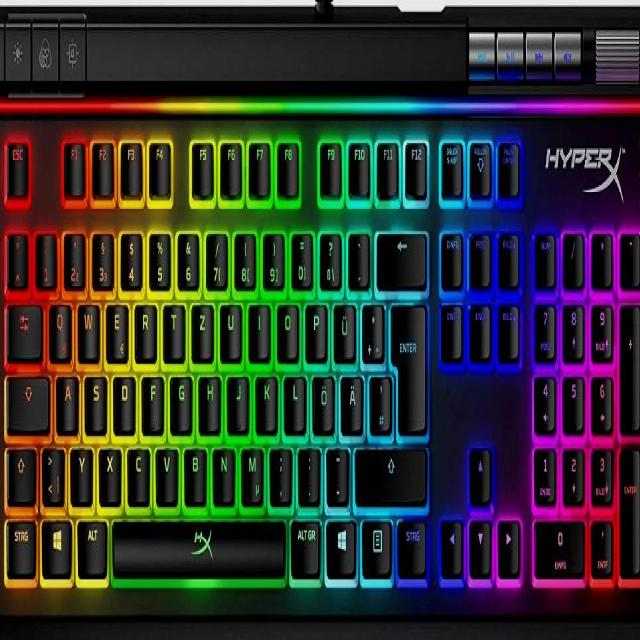0: (288, 226, 313, 288)
1: (33, 226, 55, 283)
2: (61, 226, 85, 285)
3: (90, 226, 112, 285)
4: (119, 226, 142, 285)
5: (147, 226, 170, 286)
6: (175, 226, 199, 286)
7: (203, 226, 227, 286)
8: (231, 226, 256, 288)
9: (261, 226, 284, 286)
a: (54, 367, 77, 428)
accent: (346, 226, 369, 285)
ae: (338, 369, 362, 429)
alt-left: (75, 512, 106, 573)
altgr-right: (288, 514, 319, 574)
b: (182, 440, 206, 499)
c: (125, 440, 149, 499)
caret: (6, 226, 27, 281)
comma: (267, 439, 290, 502)
d: (110, 367, 134, 428)
del: (375, 226, 426, 283)
e: (104, 295, 128, 357)
enter: (387, 293, 425, 428)
f: (140, 369, 163, 428)
g: (168, 369, 192, 428)
h: (197, 369, 219, 428)
hash: (367, 369, 390, 429)
i: (247, 297, 269, 356)
j: (225, 367, 248, 428)
k: (253, 367, 276, 430)
keyboard: (0, 79, 640, 628)
l: (282, 369, 305, 428)
less: (39, 440, 63, 500)
m: (239, 440, 263, 500)
minus: (324, 441, 348, 502)
n: (211, 440, 234, 500)
o: (275, 296, 298, 357)
oe: (310, 369, 334, 429)
p: (303, 296, 326, 357)
plus: (360, 296, 382, 359)
point: (296, 441, 319, 500)
q: (47, 297, 70, 356)
r: (132, 297, 156, 356)
s: (83, 367, 106, 428)
shift-left: (5, 440, 35, 499)
shift-lock: (5, 369, 49, 428)
shift-right: (353, 441, 426, 502)
space: (109, 510, 285, 578)
ss: (317, 226, 341, 286)
strg-left: (4, 510, 35, 573)
strg-right: (395, 514, 426, 574)
t: (161, 297, 184, 356)
tab: (6, 296, 40, 354)
u: (218, 296, 241, 357)
ue: (331, 296, 354, 359)
v: (154, 440, 177, 499)
w: (75, 295, 98, 357)
x: (97, 440, 121, 500)
y: (69, 440, 92, 499)
z: (190, 297, 213, 356)
